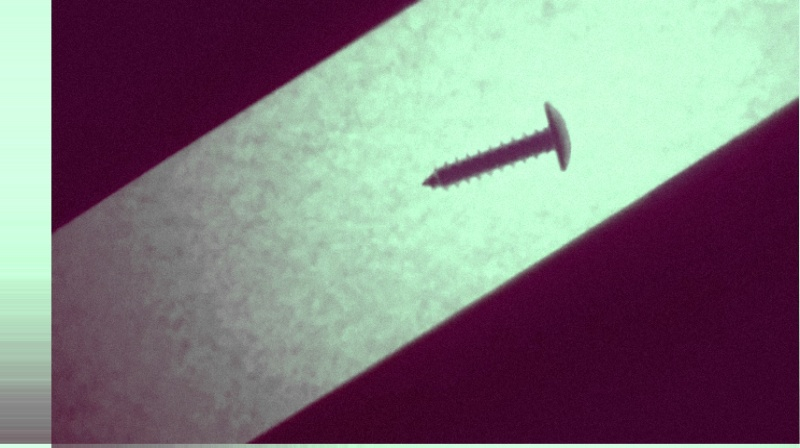S003: (415, 98, 575, 193)
